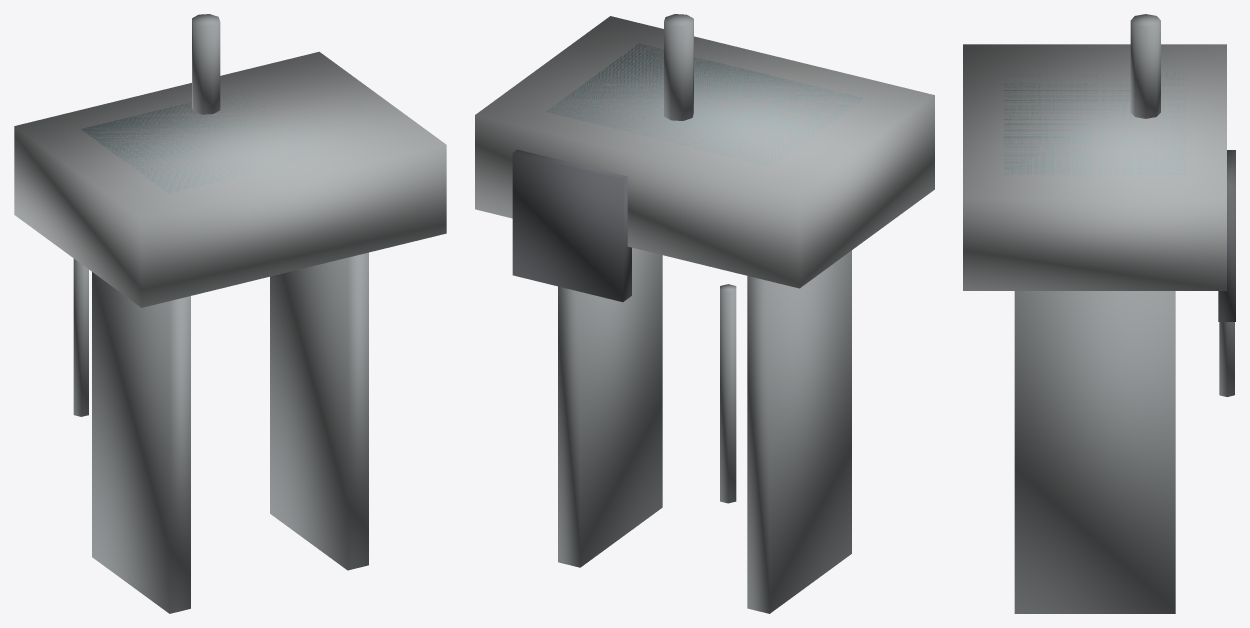
Rendered from bar_sink__service.glb.
The picture shows the model from 3 angles, left to right: view 1: azimuth 30°, elevation 25°; view 2: azimuth 150°, elevation 25°; view 3: azimuth 270°, elevation 25°; orthographic projection. The views are drawn at different scales.
Parts seen in each view (by area): view 1: world; view 2: world; view 3: world.
Part boxes in pixels (box(x1,y1,x2,y2)): world: box(14, 14, 446, 613); world: box(475, 14, 934, 613); world: box(963, 14, 1235, 613).
Size of the model in its own units: 0.72 by 1.18 by 0.5375.
